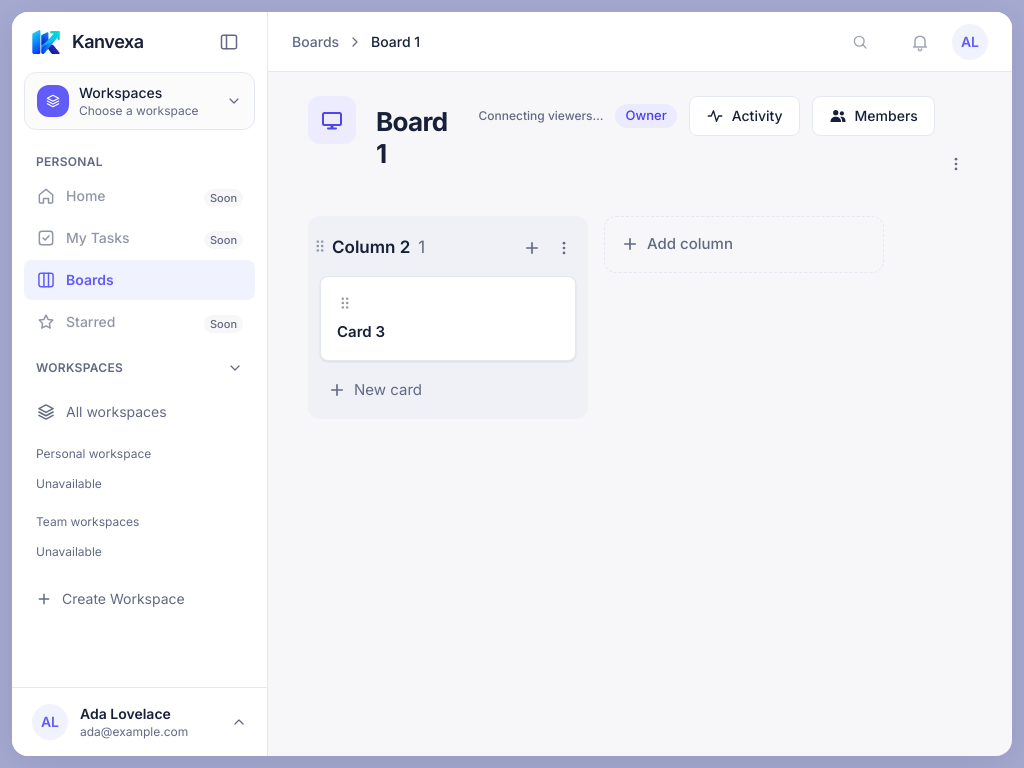
Test case: permalink failure recovery › keeps the placeholder draft when the first detail request fails, including after retry
The width and height of the screenshot is (1024, 768).
Click the button "Card 3".
click(361, 332)  # box [337,321,385,344]
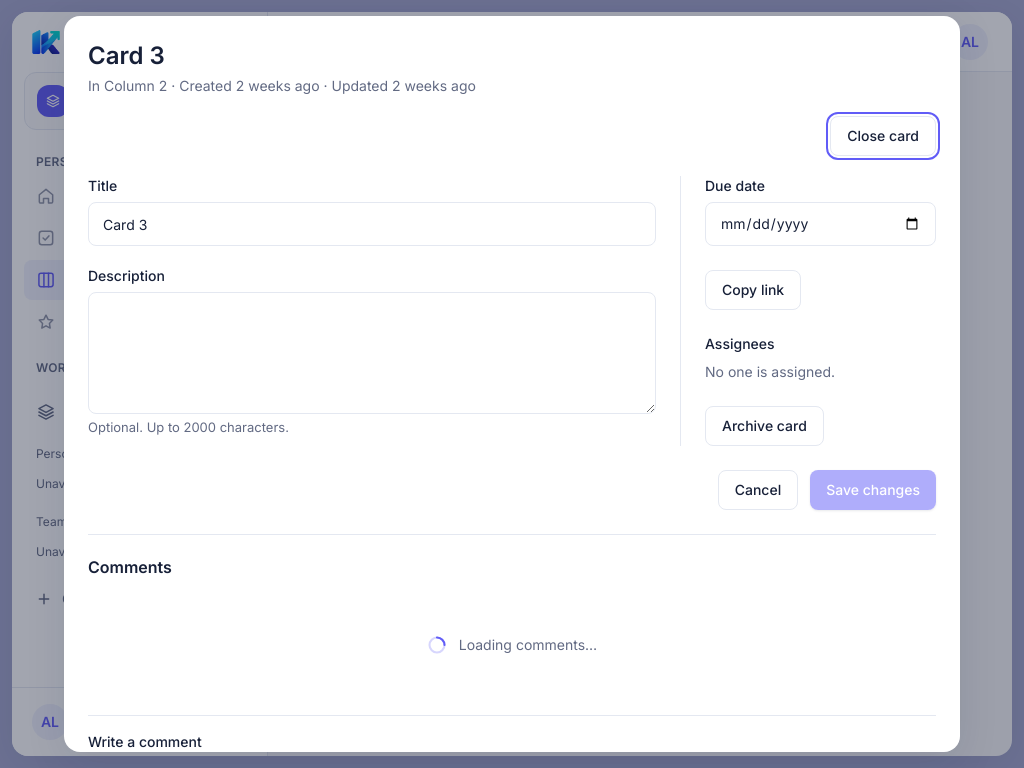
Type "Draft while detail is pending" into the text box labelled "Description".
click(372, 353); type("Draft while detail is pending")  # box [88,292,656,414]
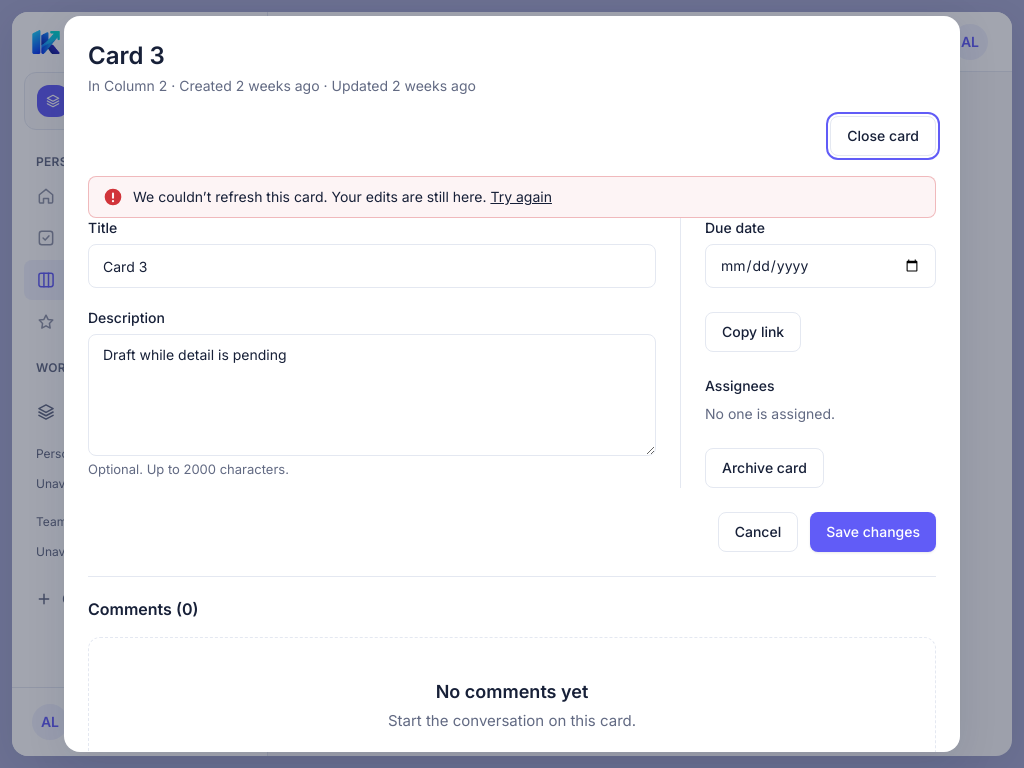
Result: the message reads "We couldn’t refresh this card. Your edits are still here. Try again" at [133,188,486,205]
Click the button "Try again".
click(521, 197)  # box [490,187,552,207]
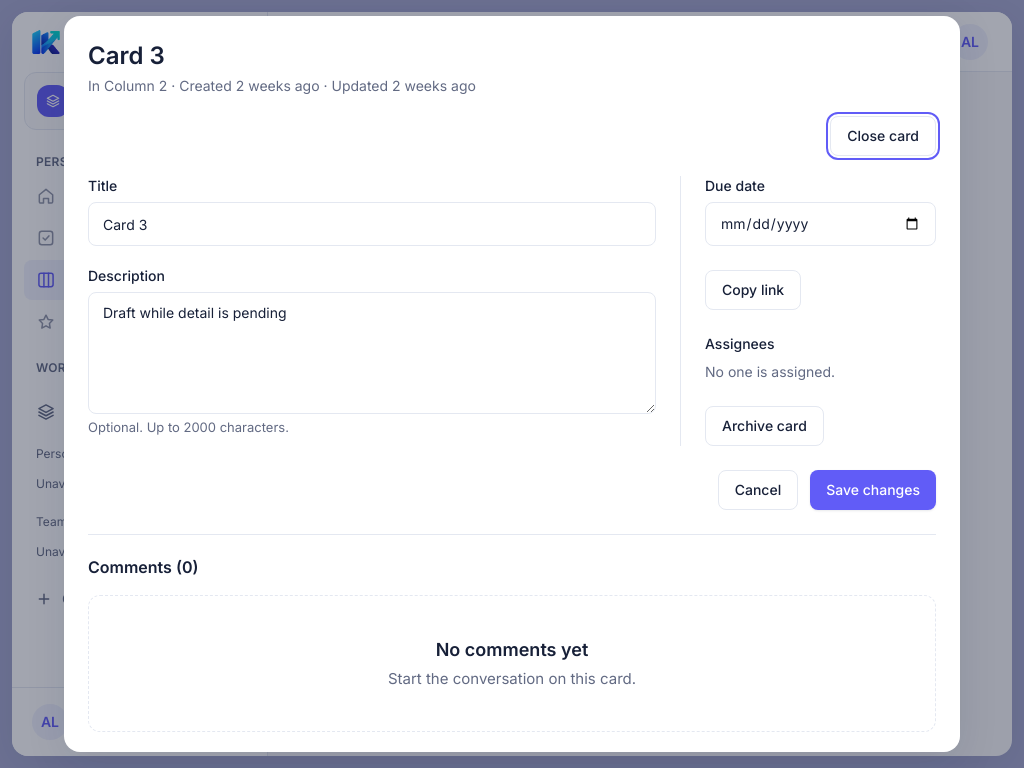
Result: the text "couldn’t refresh this card" is gone
